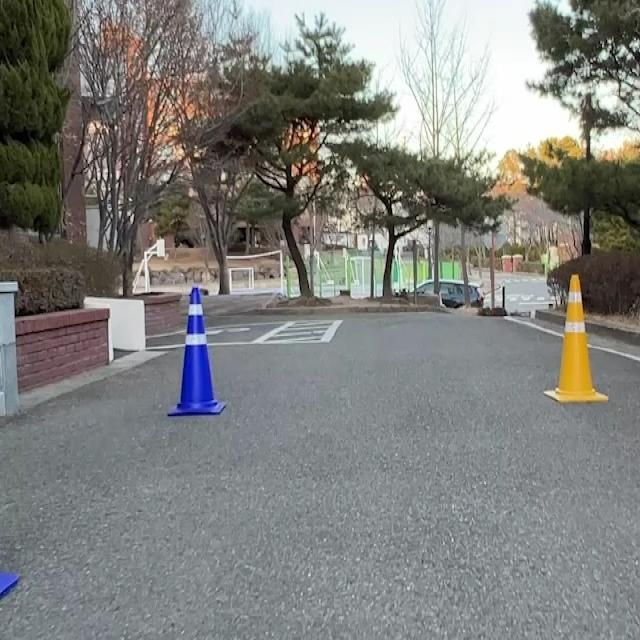b_rub: (168, 287, 225, 417)
y_rub: (546, 275, 610, 403)
